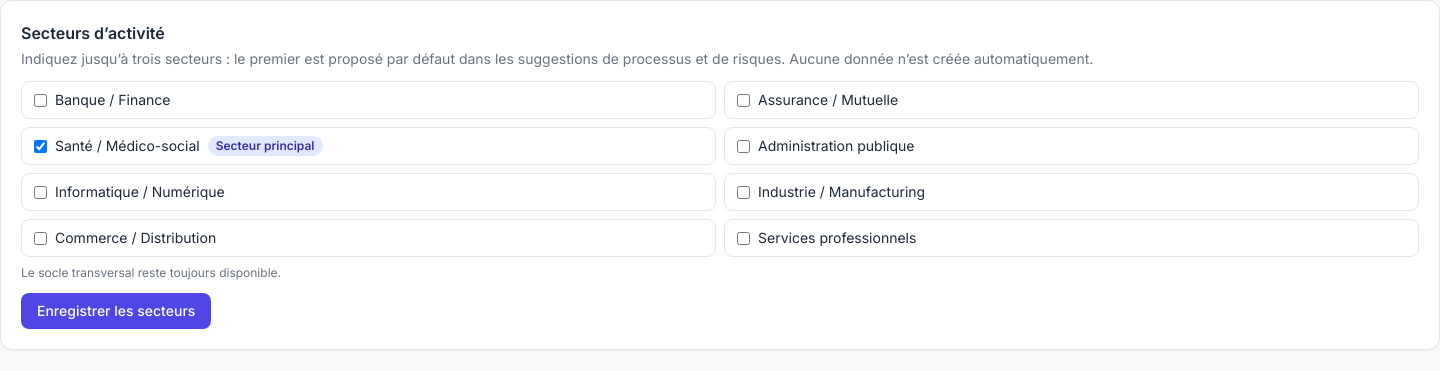
Test: SectorSettings — secteurs d’activité de l’organisation › affiche les secteurs déclarés, le principal, et permet d’en ajouter puis d’enregistrer dans l’ordre
This screenshot has width=1440, height=371.
Expected: the checkbox labelled "Santé / Médico-social" is checked, [34, 140, 47, 152]
Expected: the text "Secteur principal" is shown, [208, 136, 322, 156]
Click the checkbox labelled "Informatique / Numérique" at (40, 192), box [34, 186, 47, 198]
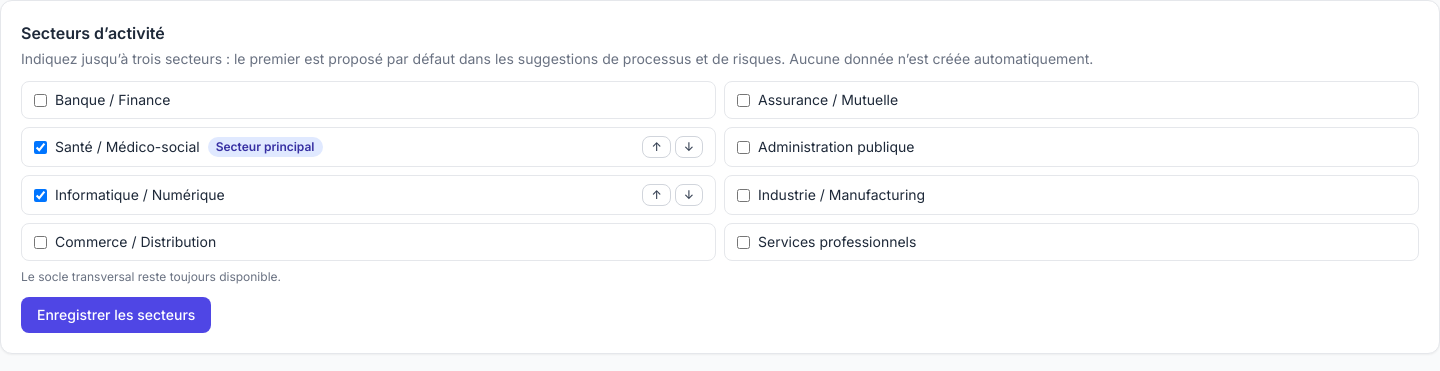
Click the button named "Monter Informatique / Numérique" at (657, 195), box [642, 184, 671, 206]
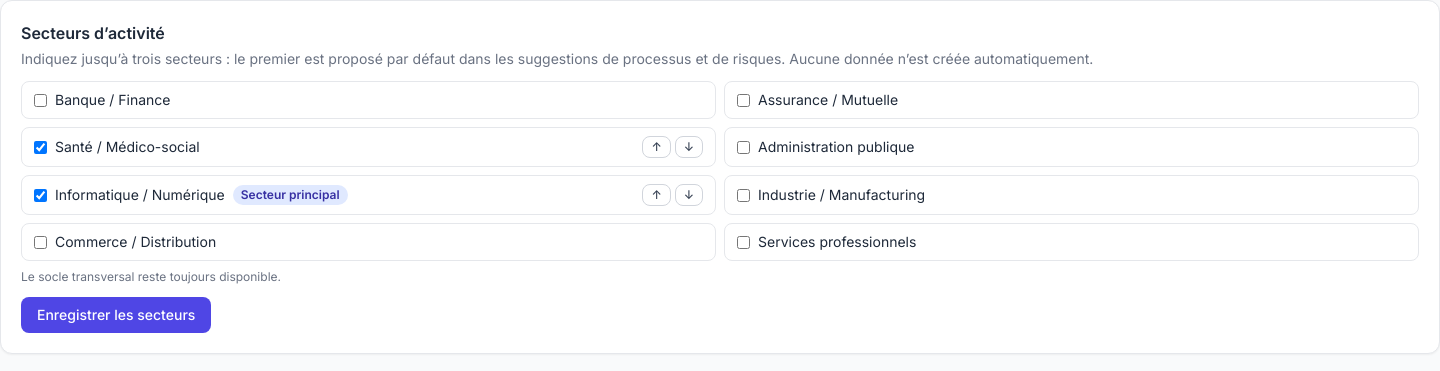
Click the button "Enregistrer les secteurs" at (116, 315), box [21, 297, 211, 333]
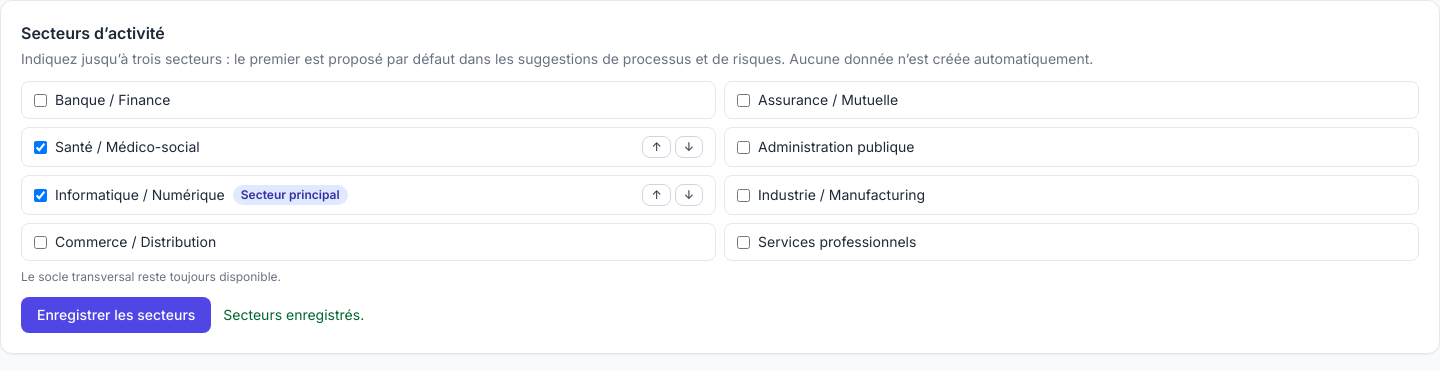
Result: the message shows "Secteurs enregistrés" at [223, 306, 364, 323]
